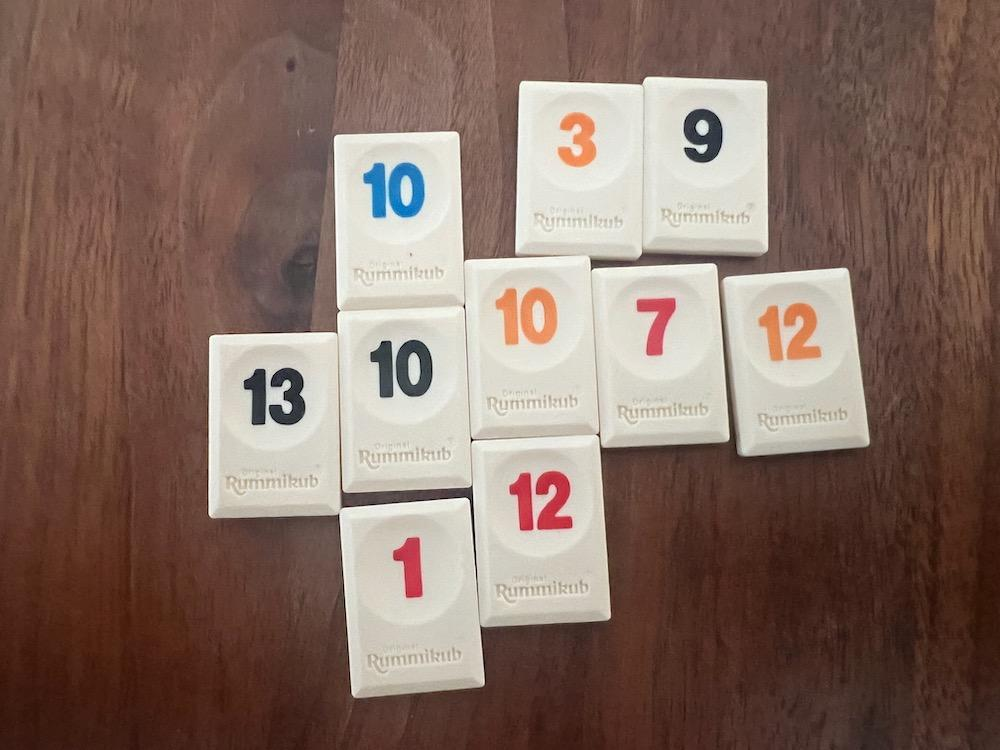black_10: (338, 308, 470, 492)
black_13: (209, 335, 342, 516)
black_9: (643, 76, 768, 254)
blue_10: (334, 131, 462, 311)
orange_10: (465, 256, 597, 439)
orange_12: (723, 268, 869, 455)
orange_3: (516, 82, 643, 260)
red_1: (340, 498, 483, 697)
red_12: (474, 437, 611, 627)
red_7: (592, 264, 728, 446)
